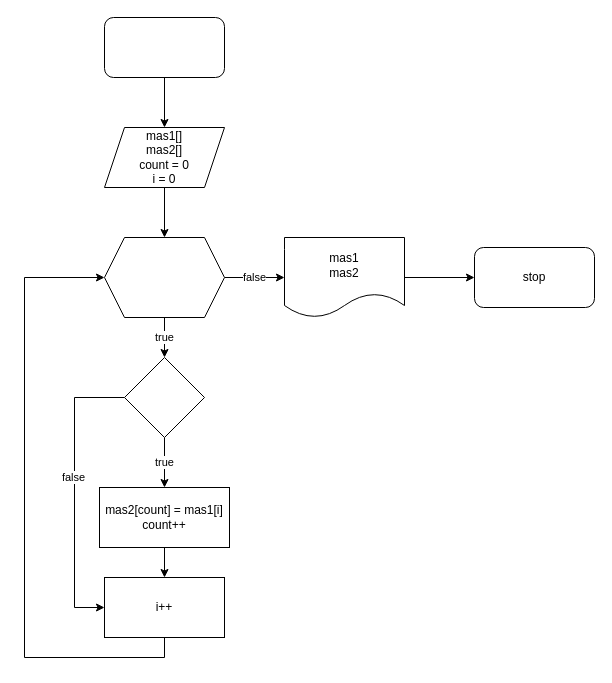
This 612x683 diagram has some shape labels left out. The shapes that lost their labels are listed below. From the top down, each one's centre as x and y in pixels, then its label:
(164,47): start
(164,277): i < mas1.Lenght
(164,397): mas1[i] <= 3
